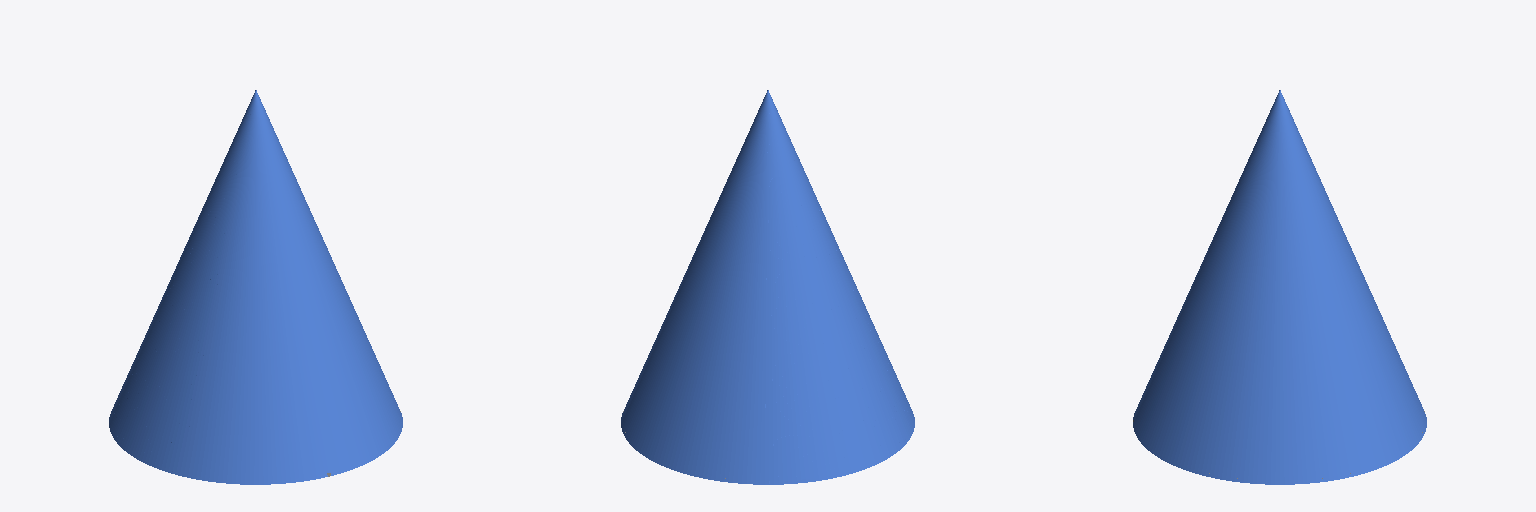
File: Kon.obj
3 renders of one model, left to right at view 1: azimuth 30°, elevation 25°; view 2: azimuth 150°, elevation 25°; view 3: azimuth 270°, elevation 25°, orthographic.
Parts seen in each view (by area): view 1: Mesh1 Model; view 2: Mesh1 Model; view 3: Mesh1 Model.
Part boxes in pixels (bbox=[...]): Mesh1 Model: bbox=[109, 90, 402, 484]; Mesh1 Model: bbox=[621, 90, 914, 484]; Mesh1 Model: bbox=[1133, 90, 1426, 484].
Size of the model in its own units: 40 by 50 by 40.